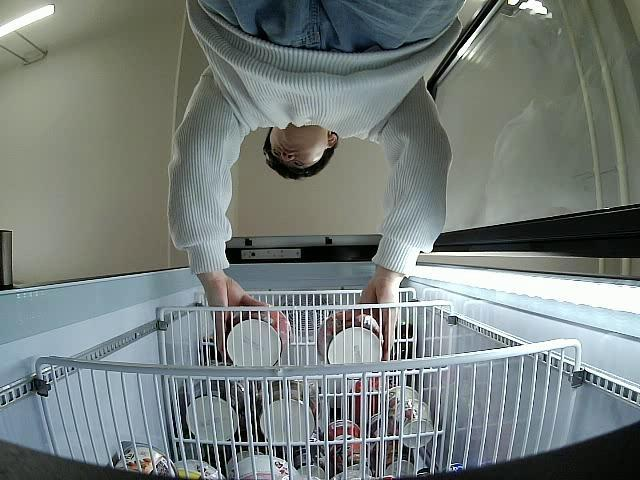01_ShinRamen_L: (223, 306, 293, 368), (320, 310, 384, 364)
